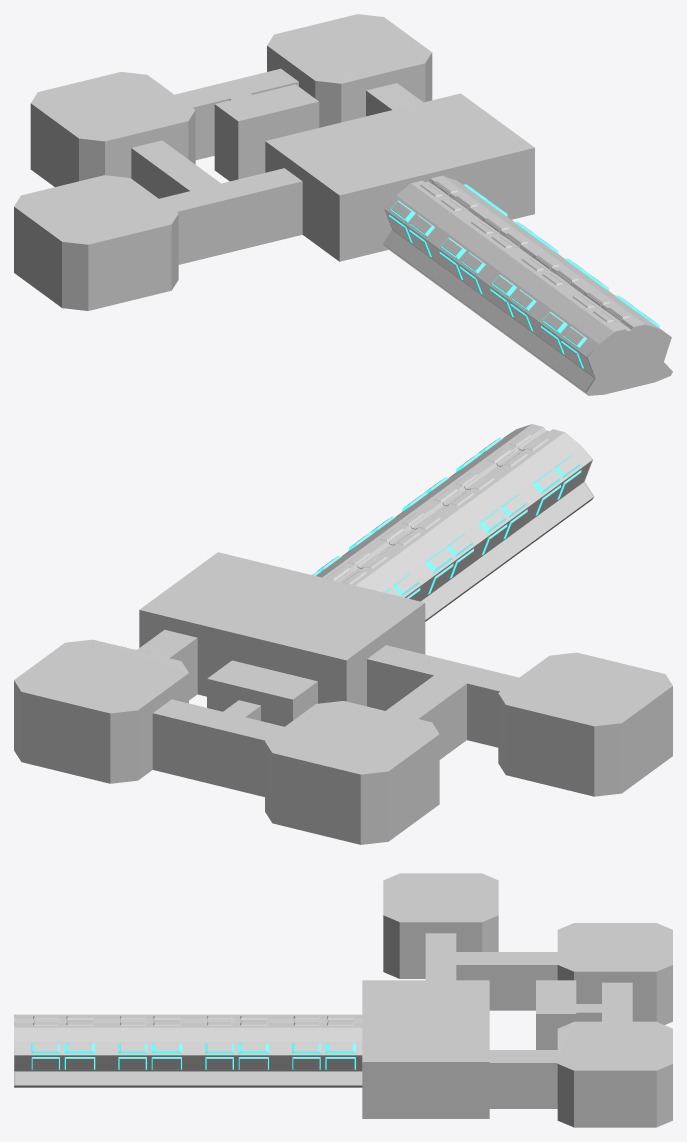
Rendered from Hub_main.fbx.
The picture shows the model from 3 angles, top to bottom: view 1: azimuth 30°, elevation 25°; view 2: azimuth 150°, elevation 25°; view 3: azimuth 270°, elevation 25°; orthographic projection. The views are drawn at different scales.
Visible parts, largest first — view 1: Object003, Box005, Object002, Object001; view 2: Object003, Box005; view 3: Object003, Box005.
Boxes of the visible parts, x1=… form: Object003: x1=14, y1=14, x2=534, y2=310; Box005: x1=383, y1=175, x2=666, y2=394; Object002: x1=585, y1=329, x2=629, y2=395; Object001: x1=629, y1=324, x2=672, y2=388; Object003: x1=14, y1=552, x2=672, y2=844; Box005: x1=312, y1=424, x2=593, y2=621; Object003: x1=362, y1=873, x2=672, y2=1127; Box005: x1=14, y1=1014, x2=362, y2=1087.
Size of the model in its own units: 31154 by 4193 by 43983.
